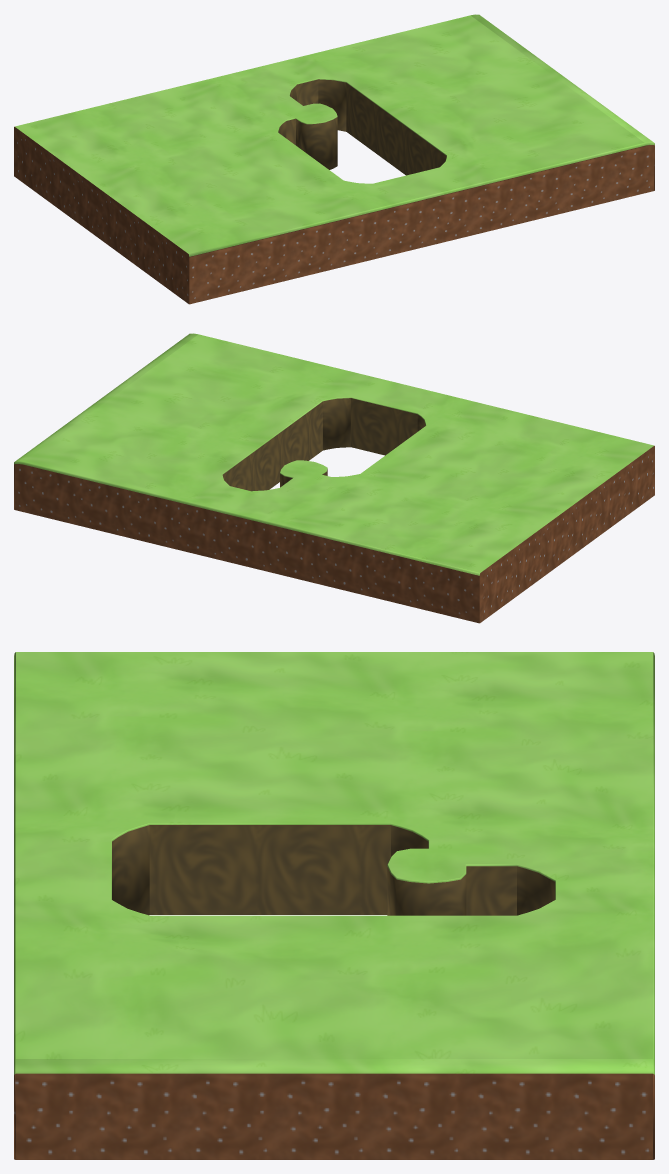
File: LakeArea.fbx
3 views of the same model, one above another, from view 1: azimuth 30°, elevation 25°; view 2: azimuth 150°, elevation 25°; view 3: azimuth 270°, elevation 25° (orthographic). The views are drawn at different scales.
Visible parts, largest first — view 1: LakeArea; view 2: LakeArea; view 3: LakeArea.
Part boxes in pixels (x1,y1,x2,y2): LakeArea: (14,14,654,304); LakeArea: (14,333,654,623); LakeArea: (14,652,654,1159).
Bounding box in the file's own units: 52233 × 5360 × 34000.
Materials: 1 (1 with a texture image).
